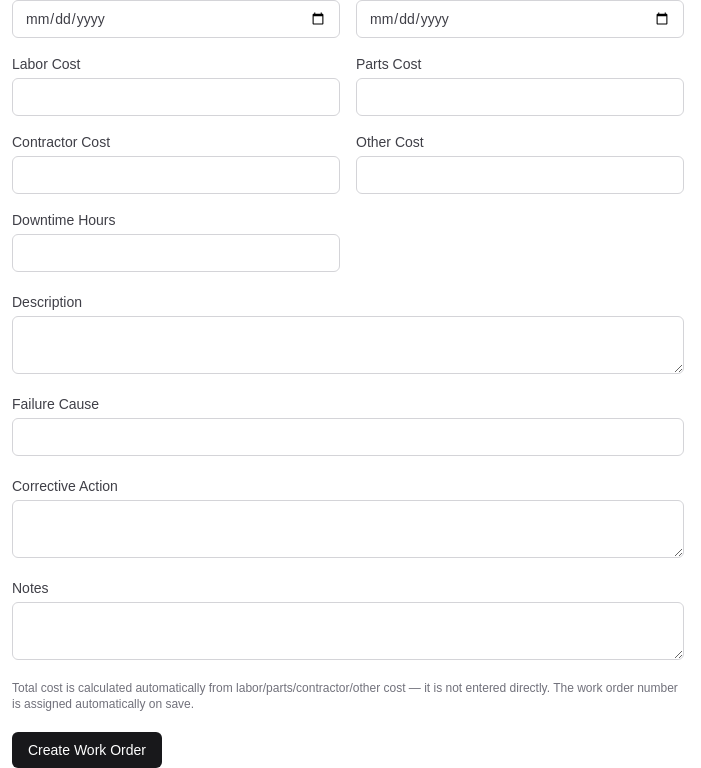
it: MaintenanceForm › shows validation errors when required fields are missing
The width and height of the screenshot is (701, 768).
(page scrolled)
Click the button "Create Work Order". click: (87, 750)
box: [12,732,162,767]
(page scrolled)
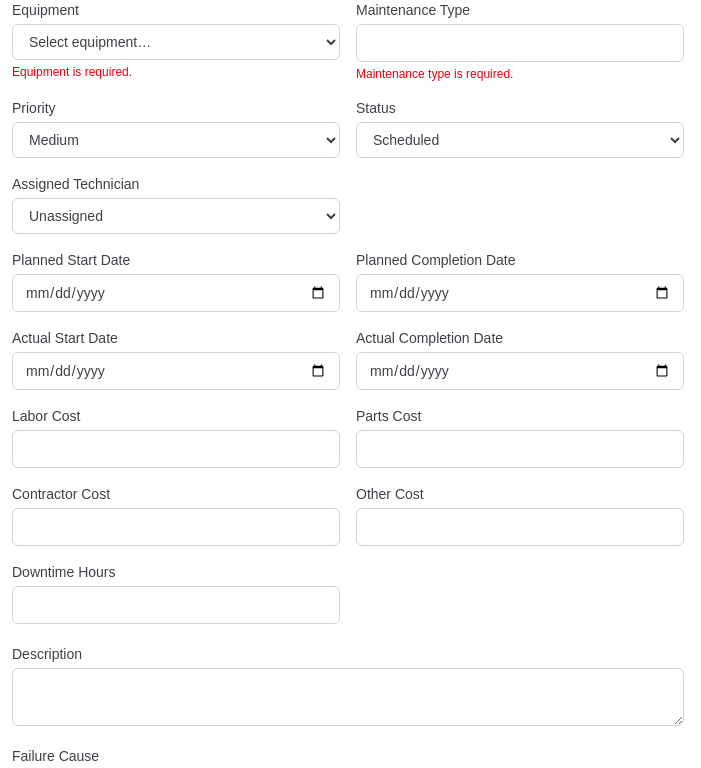
Expected: the text "Equipment is required." is shown, [12,65,132,79]
Expected: the text "Maintenance type is required." is shown, [356,67,513,81]
